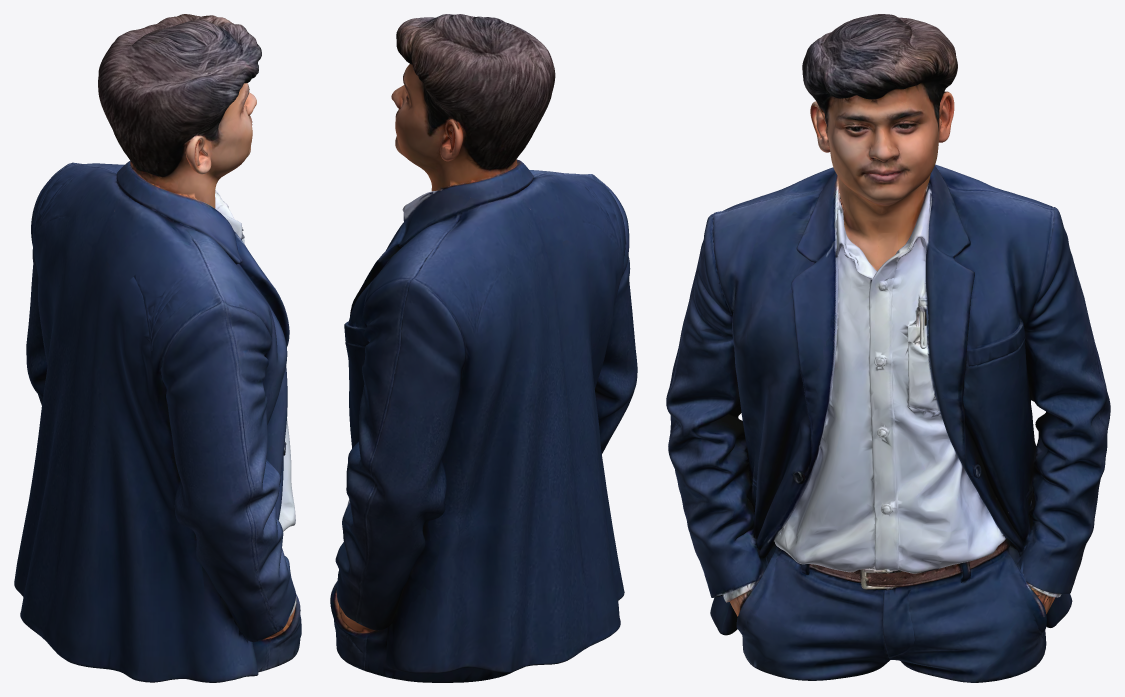
File: divyesh-3d.glb
The picture shows the model from 3 angles, left to right: view 1: azimuth 30°, elevation 25°; view 2: azimuth 150°, elevation 25°; view 3: azimuth 270°, elevation 25°; orthographic projection. The views are drawn at different scales.
Visible parts, largest first — view 1: tripo_node_d36cf91e-4124-4e01-83aa-90de5606d11a; view 2: tripo_node_d36cf91e-4124-4e01-83aa-90de5606d11a; view 3: tripo_node_d36cf91e-4124-4e01-83aa-90de5606d11a.
Part boxes in pixels (x1,y1,x2,y2): tripo_node_d36cf91e-4124-4e01-83aa-90de5606d11a: [14, 14, 301, 682]; tripo_node_d36cf91e-4124-4e01-83aa-90de5606d11a: [330, 14, 637, 682]; tripo_node_d36cf91e-4124-4e01-83aa-90de5606d11a: [666, 14, 1110, 682].
Bounding box in the file's own units: 0.388 × 0.9787 × 0.6393.
1 material, 1 textured.
